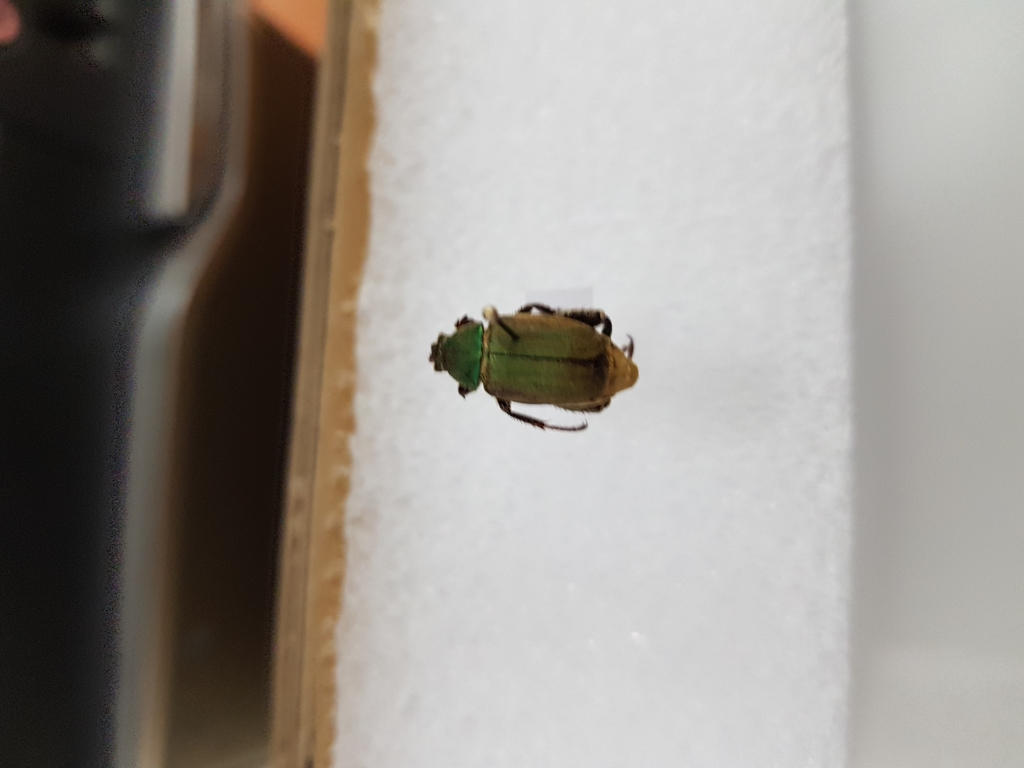Glaphyrus_superbus: (420, 288, 653, 441)
